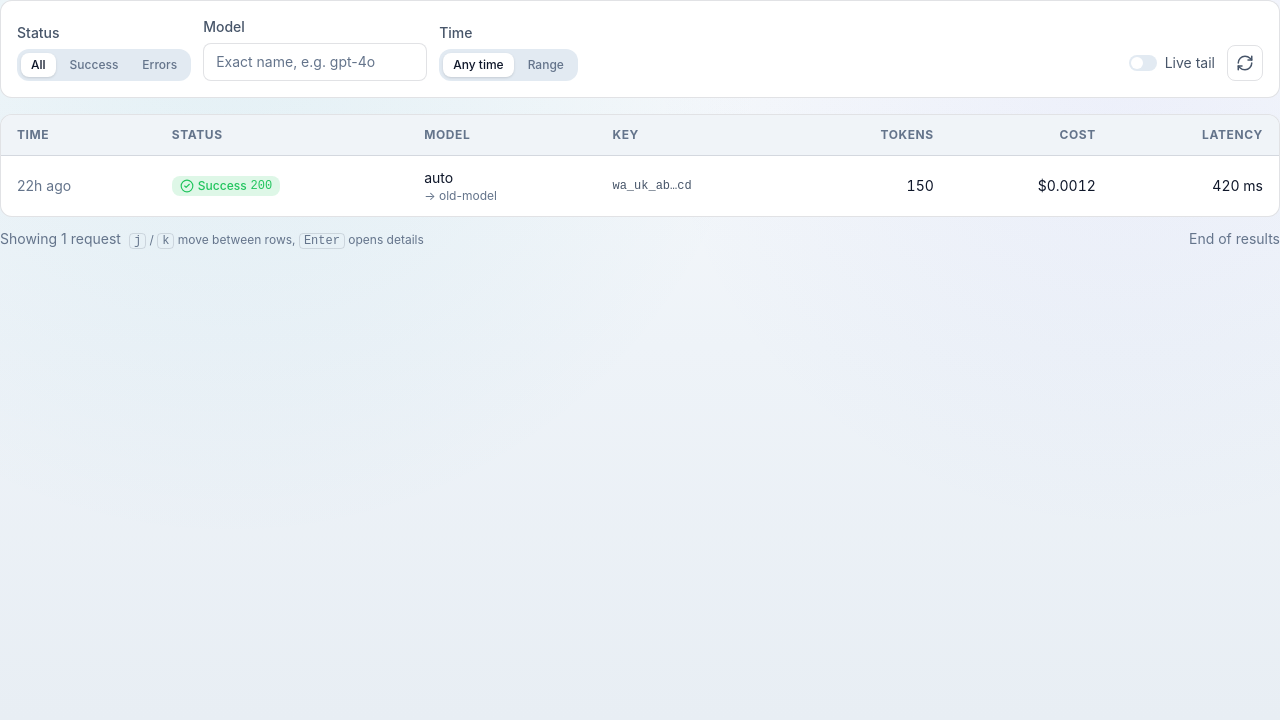
Test case: RequestLogsPage live tail › pauses (buffers) while a detail sheet is open and shows rows after it closes
The width and height of the screenshot is (1280, 720).
Expected: the text "old-model" is shown, top-left (439, 188), bottom-right (497, 203)
Click the switch named "Live tail" at (1143, 63), box top-left (1129, 55), bottom-right (1157, 71)
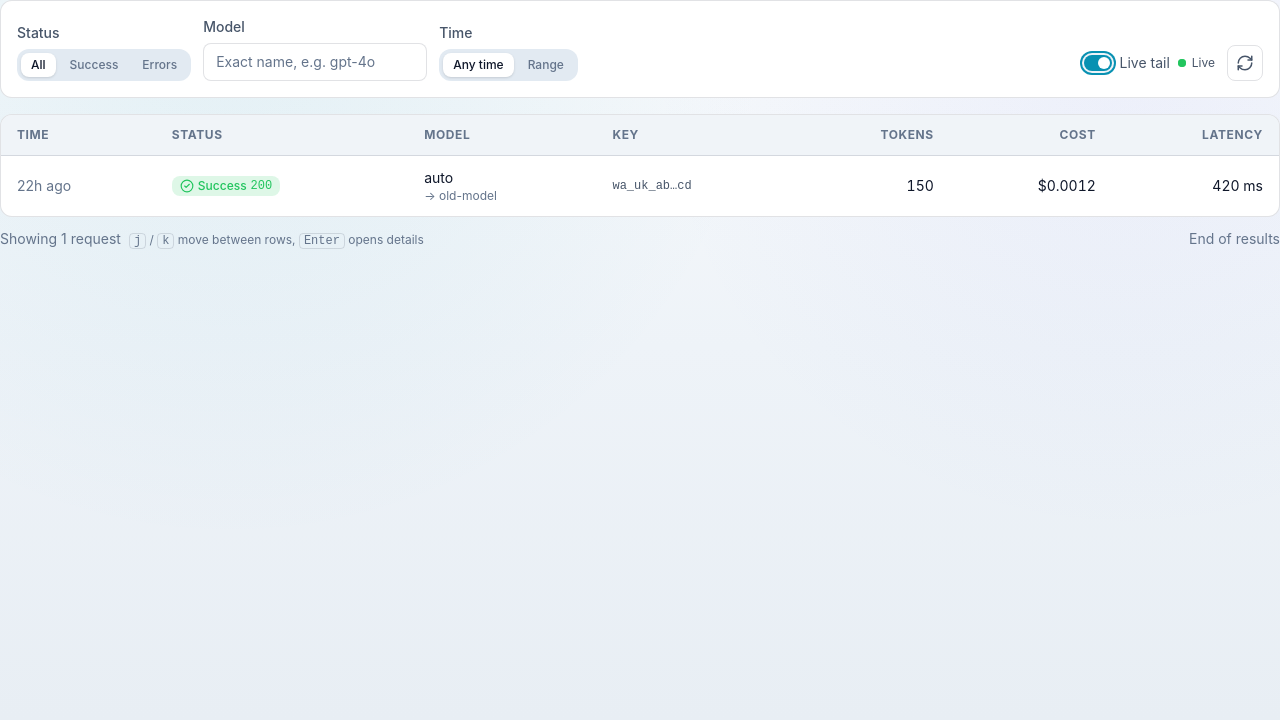
Click the button with aria-label "view details for request" at (44, 186), box top-left (17, 176), bottom-right (71, 196)
Wait 3000 ms
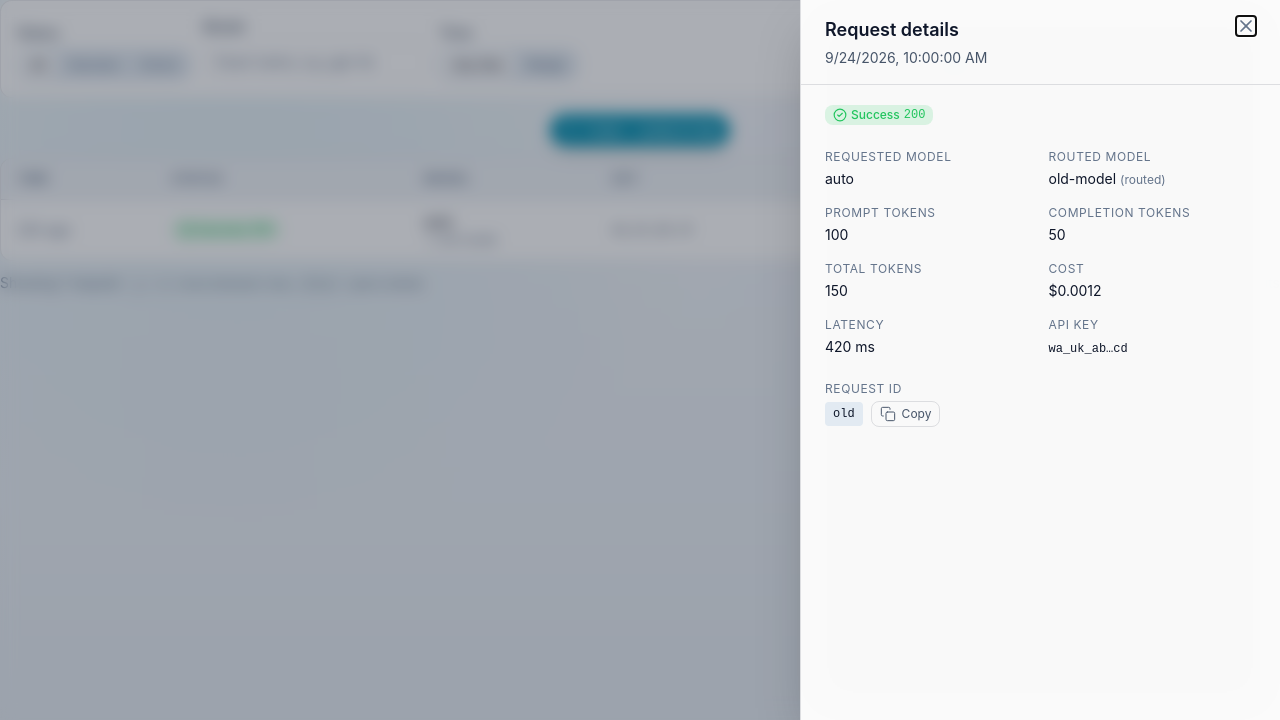
Expected: the text "during-model" is not shown
Now the button "1 new — jump to top" is shown, box top-left (550, 114), bottom-right (730, 146)
Click the button named "Close" at (1246, 26), box top-left (1236, 16), bottom-right (1256, 36)
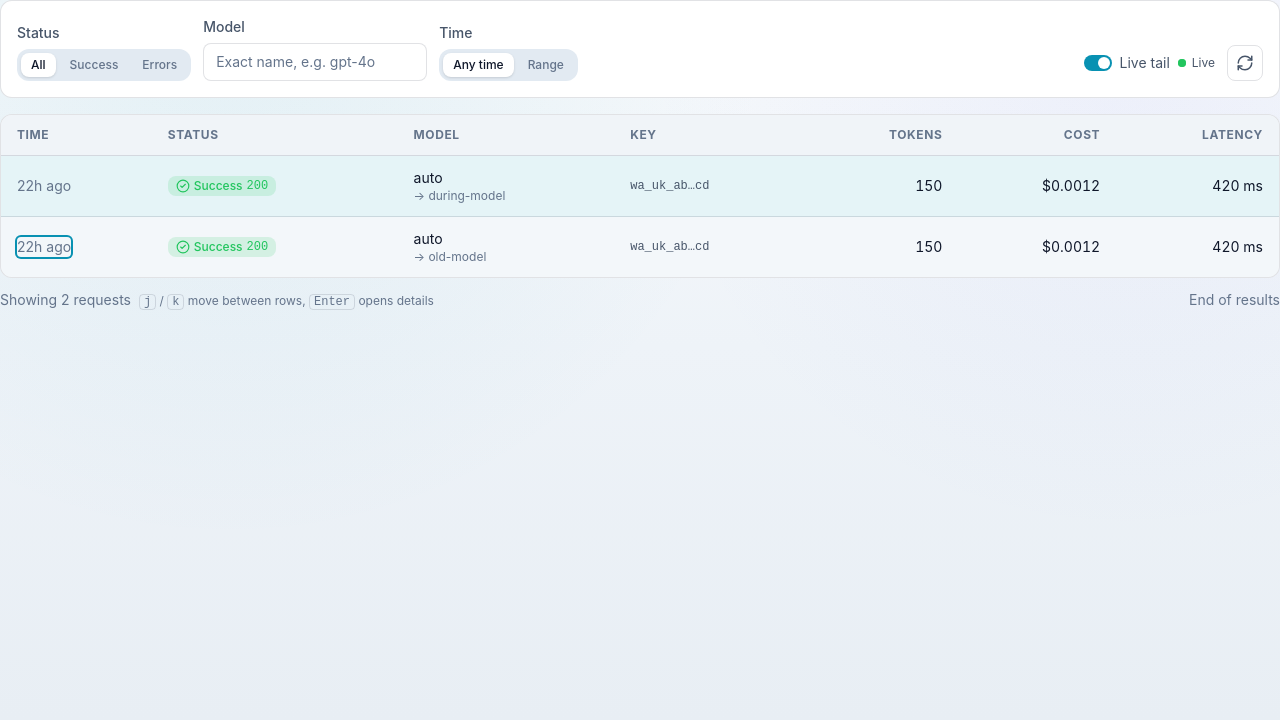
Now the row that starts with "22h ago" shows "during-model", box top-left (428, 188), bottom-right (505, 203)
Now the button "new — jump to top" is gone
